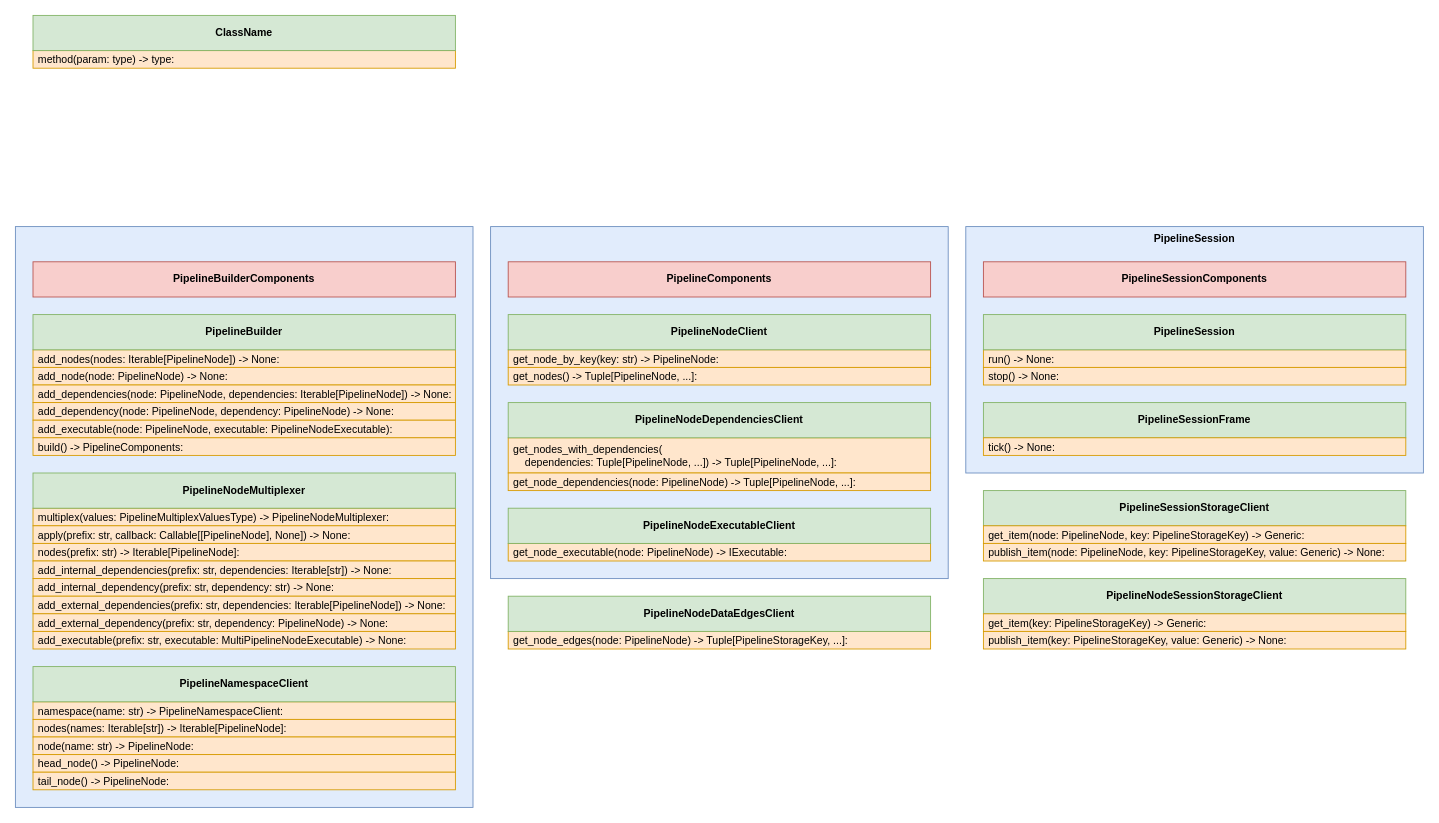
The diagram is 1439 pixels wide and 823 high, and some of its shapes have lost their labels. The shapes that lost their labels are listed below. From the top down, each one's box as (x1, y1, x2, y2) in pixels, then its label:
(490, 226, 948, 579): DAG
(15, 226, 473, 807): Building
